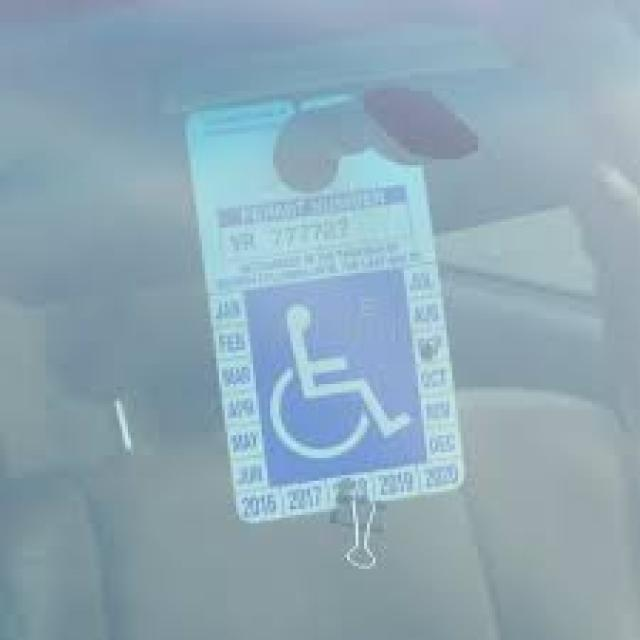symbol_of_access: (266, 304, 412, 461)
